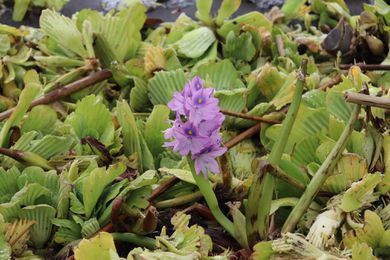water_hyacinth: (0, 8, 390, 260)
